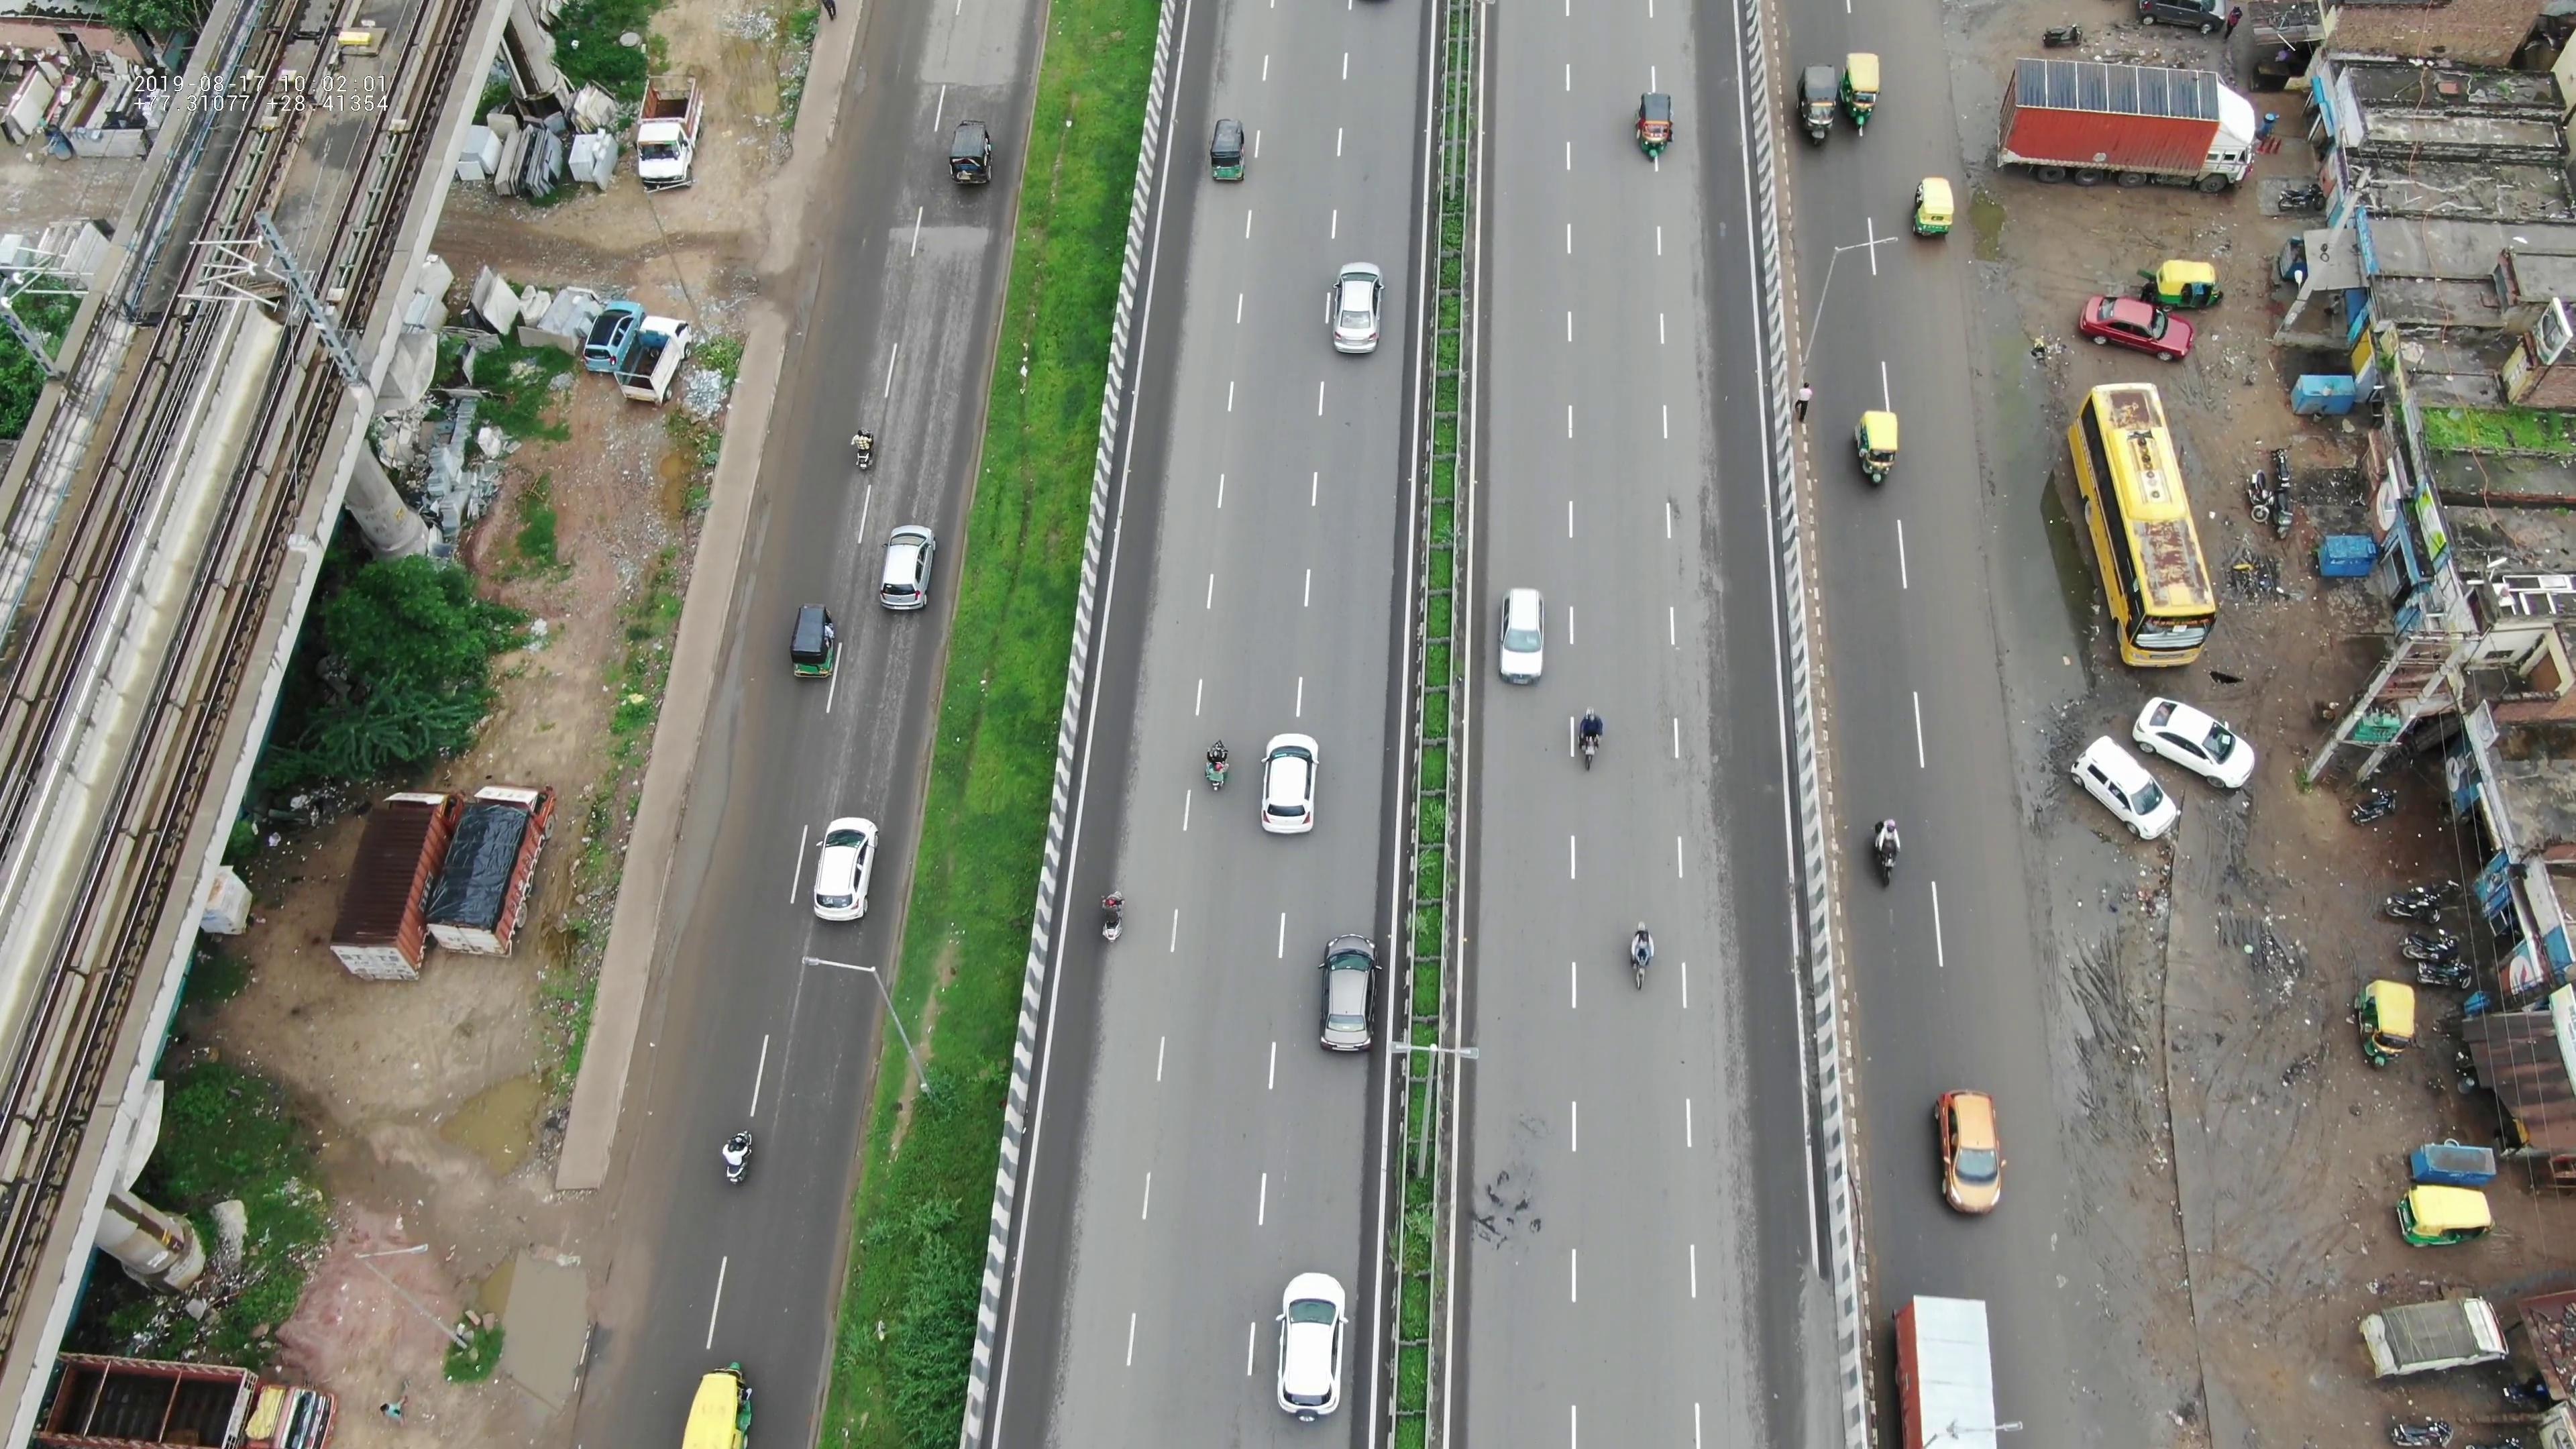Waterlogging: (2019, 844, 2157, 1189), (1971, 288, 2075, 692), (669, 699, 741, 962), (1959, 186, 2010, 272)
